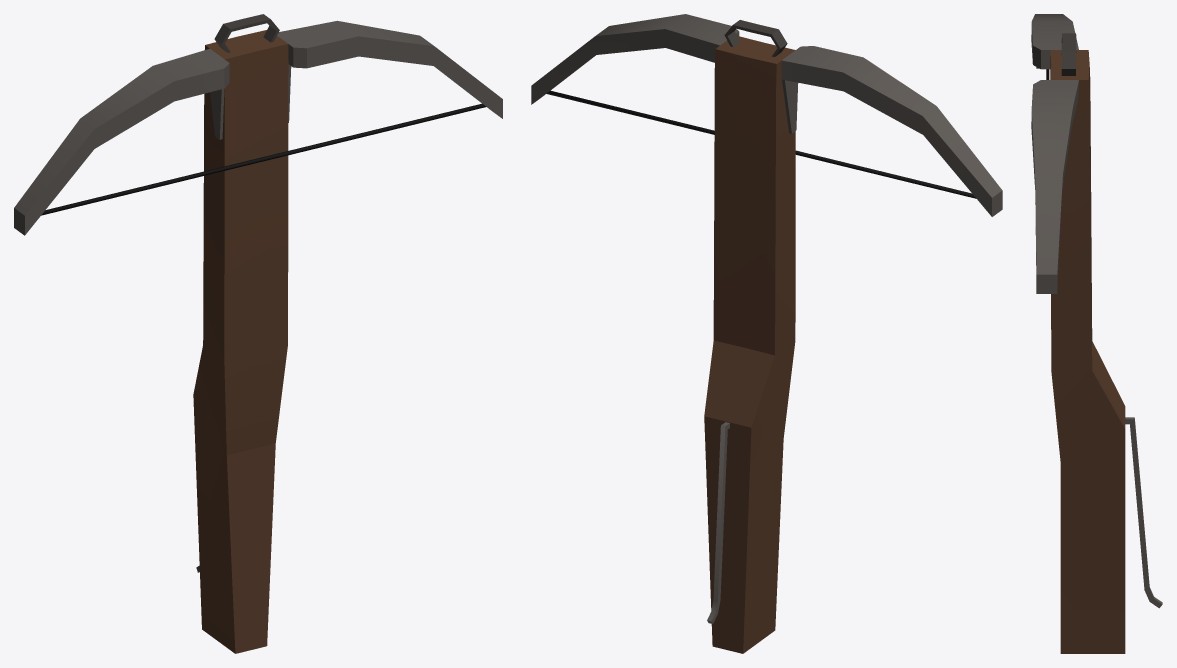
Rendered from Crossbow.glb.
The picture shows the model from 3 angles, left to right: view 1: azimuth 30°, elevation 25°; view 2: azimuth 150°, elevation 25°; view 3: azimuth 270°, elevation 25°; orthographic projection. The views are drawn at different scales.
Parts seen in each view (by area): view 1: Crossbow; view 2: Crossbow; view 3: Crossbow.
Boxes of the visible parts, <box> form: Crossbow: <box>14,14,502,653</box>; Crossbow: <box>531,14,1002,653</box>; Crossbow: <box>1031,14,1162,653</box>.
Bounding box in the file's own units: 0.6479 × 0.8099 × 0.1595.
Materials: 1 (1 with a texture image).
